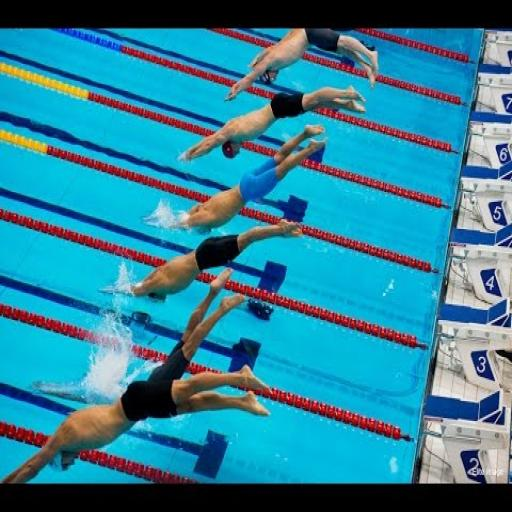swimming: (0, 266, 273, 485), (142, 121, 327, 236), (98, 218, 304, 306), (175, 81, 367, 166), (222, 26, 381, 104)
